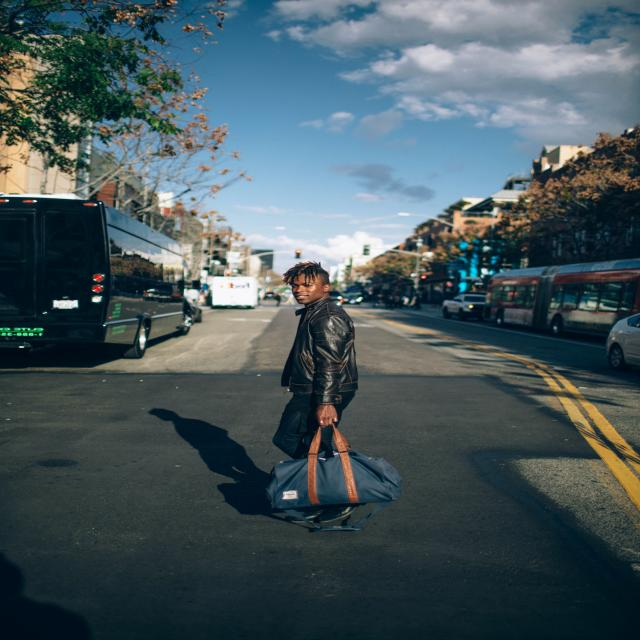adult: (271, 263, 357, 521)
